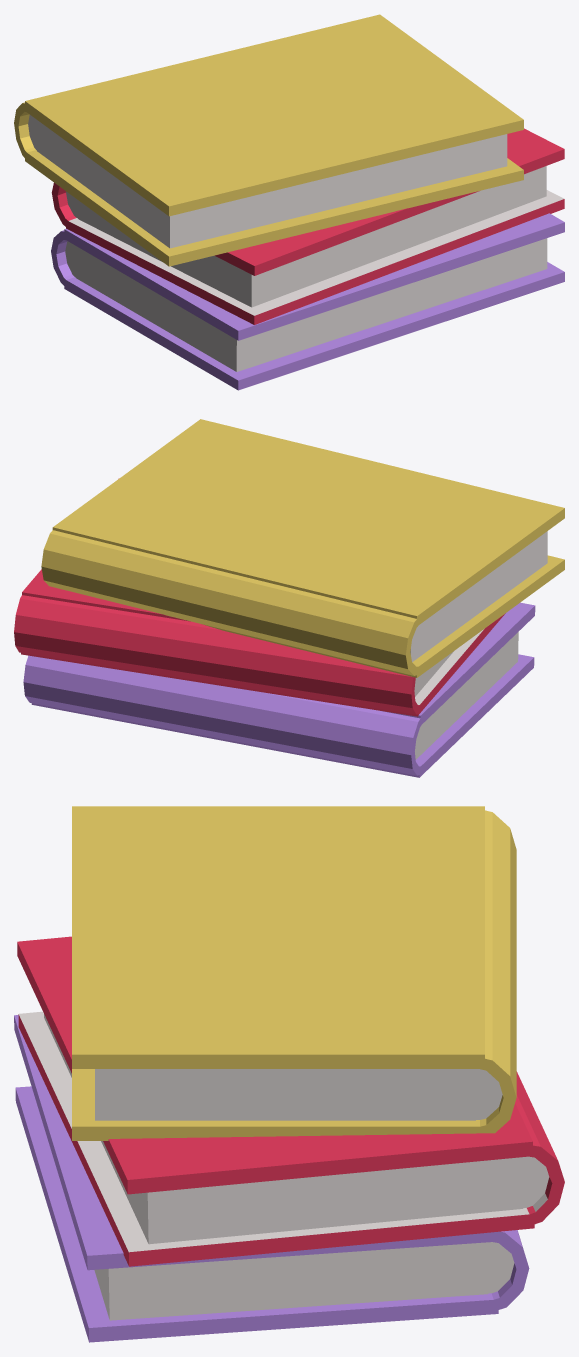
File: bookstack.fbx
3 renders of one model, top to bottom at view 1: azimuth 30°, elevation 25°; view 2: azimuth 150°, elevation 25°; view 3: azimuth 270°, elevation 25°, orthographic. The views are drawn at different scales.
Parts seen in each view (by area): view 1: bookstack; view 2: bookstack; view 3: bookstack.
Boxes of the visible parts, bbox=[...] form: bookstack: bbox=[14, 14, 564, 390]; bookstack: bbox=[14, 419, 564, 777]; bookstack: bbox=[14, 806, 564, 1342].
Size of the model in its own units: 496 by 207 by 397.
